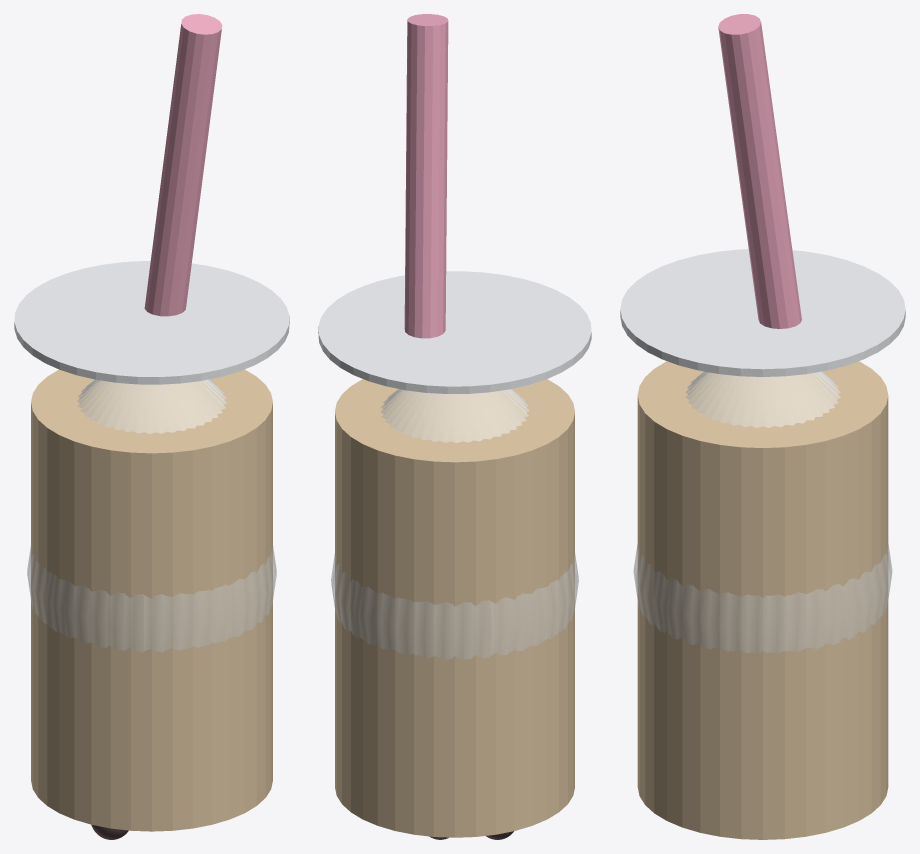
The model's file is bubble_tea.glb.
3 views of the same model, side by side, from view 1: azimuth 30°, elevation 25°; view 2: azimuth 150°, elevation 25°; view 3: azimuth 270°, elevation 25° (orthographic). The views are drawn at different scales.
Visible parts, largest first — view 1: Tea_Fill, Cup_Lid, Cup_Body, Straw_Body; view 2: Tea_Fill, Cup_Lid, Cup_Body, Straw_Body; view 3: Tea_Fill, Cup_Lid, Cup_Body, Straw_Body.
Part boxes in pixels (box(x1,y1,x2,y2)): Tea_Fill: box(31, 369, 272, 831); Cup_Lid: box(14, 261, 289, 384); Cup_Body: box(27, 379, 276, 652); Straw_Body: box(144, 14, 222, 316); Tea_Fill: box(335, 379, 574, 837); Cup_Lid: box(318, 271, 591, 393); Cup_Body: box(331, 389, 578, 659); Straw_Body: box(404, 14, 448, 338); Tea_Fill: box(637, 361, 888, 839); Cup_Lid: box(620, 249, 905, 376); Cup_Body: box(633, 371, 892, 653); Straw_Body: box(718, 14, 801, 328).
Size of the model in its own units: 0.066 by 0.2082 by 0.066.
